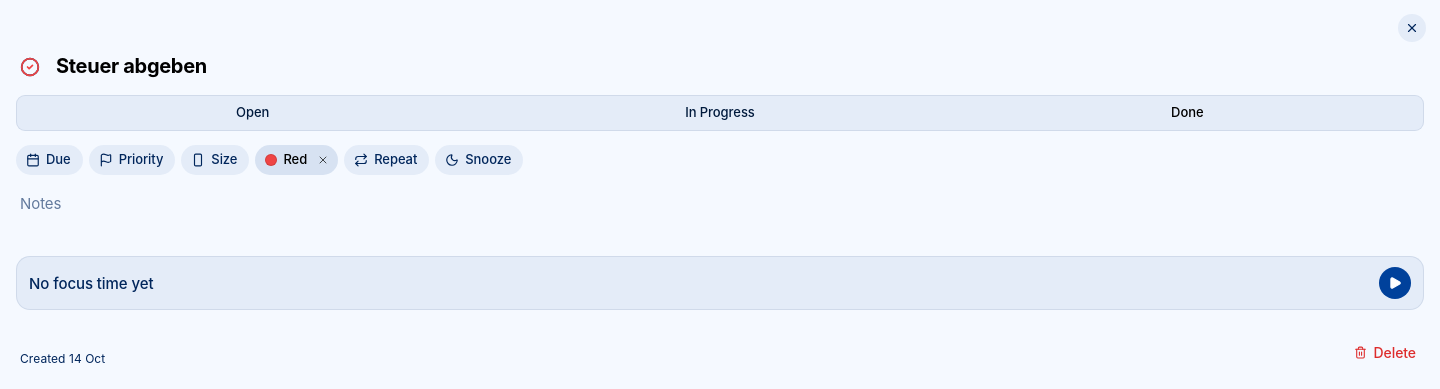
Test: LBitDetailView › Abhaken-Geste › zeigt einen gescheiterten Reopen als Couldn’t save
Click the button with class "hold" at x=30, y=67, box [16,53,44,81]
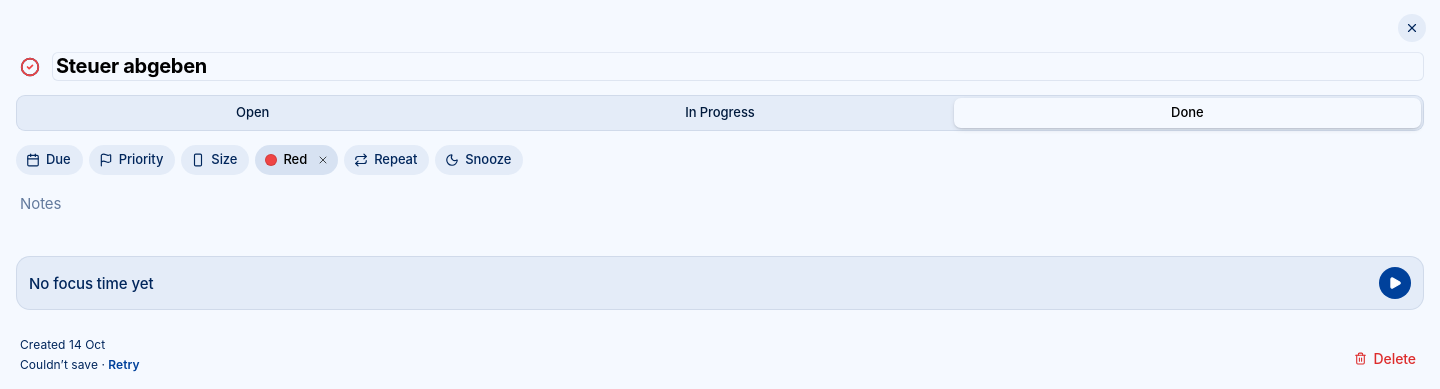
Expected: the message with class "detail__save" shows "Couldn’t save", [20,357,108,372]
